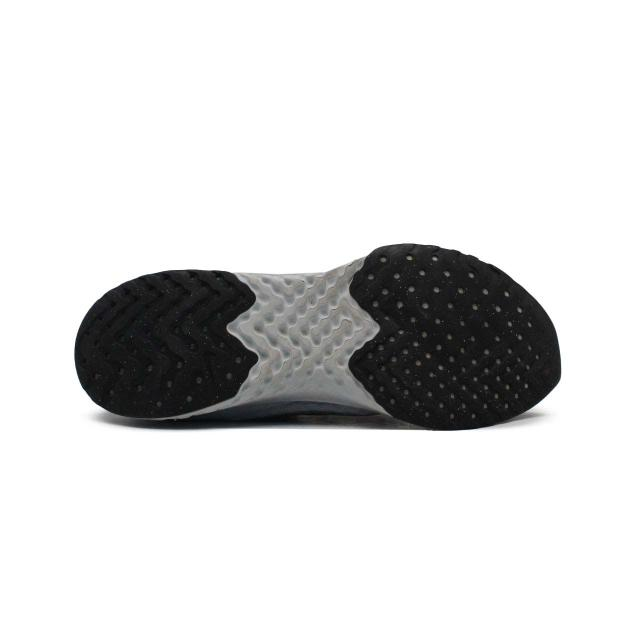outersole: (76, 242, 560, 429)
